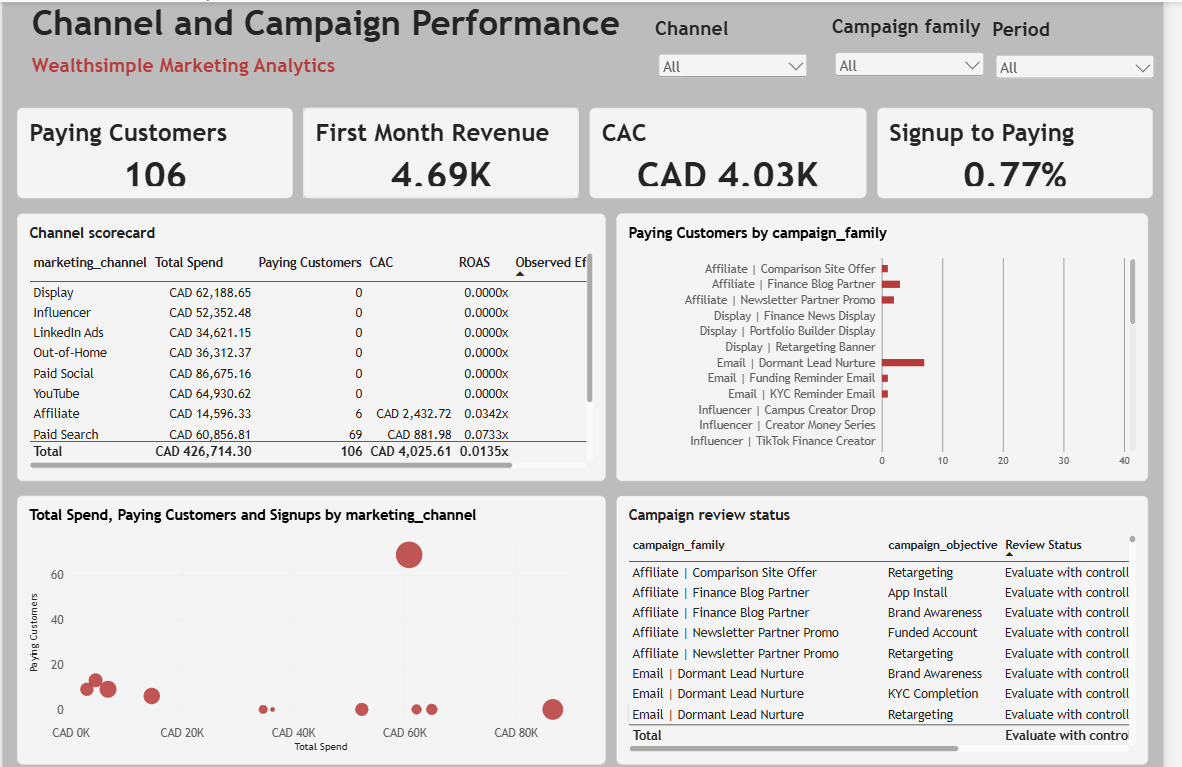

This screenshot's page, from the dashboard's own definition file:
{"tool":"powerbi","page":{"name":"Channel and Campaign","canvas":[1600,1100],"ordinal":3},"visuals":[{"type":"slicer","title":"Channel","fields":{"Values":["Fact_Campaigns.marketing_channel"]},"box":[900,19.5,214.6,104.9],"z":0},{"type":"slicer","title":"Campaign family","fields":{"Values":["Fact_Campaigns.campaign_family"]},"box":[1142.7,18.3,214.6,104.9],"z":1000},{"type":"slicer","title":"Period","fields":{"Values":["Dim_Date.YearMonth"]},"box":[1364.1,21.9,228.1,106.2],"z":2000},{"type":"card","title":"Paying Customers","fields":{"Values":["Fact_Campaigns.Paying Customers"]},"box":[20,145,380,125],"z":3000},{"type":"card","title":"First Month Revenue","fields":{"Values":["Fact_Campaigns.First Month Revenue"]},"box":[415,145,380,125],"z":4000},{"type":"card","title":"CAC","fields":{"Values":["Fact_Campaigns.CAC"]},"box":[809.4,145.3,381.2,125],"z":5000},{"type":"card","title":"Signup to Paying","fields":{"Values":["Fact_Campaigns.Signup to Paying"]},"box":[1205,145,380,125],"z":6000},{"type":"tableEx","title":"Channel scorecard","fields":{"Values":["Fact_Campaigns.marketing_channel","Fact_Campaigns.Total Spend","Fact_Campaigns.Paying Customers","Fact_Campaigns.CAC","Fact_Campaigns.ROAS","Fact_Campaigns.Observed Efficiency Ratio"]},"box":[20.3,290.6,810.9,368.8],"z":7000},{"type":"clusteredBarChart","fields":{"Category":["Fact_Campaigns.campaign_family"],"Y":["Fact_Campaigns.Paying Customers"]},"box":[846.9,290.6,732.8,368.8],"z":8000},{"type":"scatterChart","fields":{"Category":["Fact_Campaigns.marketing_channel"],"Size":["Fact_Campaigns.Signups"],"X":["Fact_Campaigns.Total Spend"],"Y":["Fact_Campaigns.Paying Customers"]},"box":[20.3,679.7,810.9,370.3],"z":9000},{"type":"tableEx","title":"Campaign review status","fields":{"Values":["Fact_Campaigns.campaign_family","Fact_Campaigns.campaign_objective","Fact_Campaigns.Review Status","Fact_Campaigns.Total Spend","Fact_Campaigns.Paying Customers"]},"box":[846.9,679.7,732.8,370.3],"z":10000},{"type":"textbox","box":[41.5,0,839,112.2],"z":11000}]}

Visuals, with their boxes on the page's 1600x1100 design canvas (x1, y1, x2, y2). These are canvas units, not pixel positions in the 1182x767 screenshot, which may show the page scaled, cropped or inside an application window:
"Channel" slicer: left=900, top=20, right=1115, bottom=124
"Campaign family" slicer: left=1143, top=18, right=1357, bottom=123
"Period" slicer: left=1364, top=22, right=1592, bottom=128
"Paying Customers" card: left=20, top=145, right=400, bottom=270
"First Month Revenue" card: left=415, top=145, right=795, bottom=270
"CAC" card: left=809, top=145, right=1191, bottom=270
"Signup to Paying" card: left=1205, top=145, right=1585, bottom=270
"Channel scorecard" tableEx: left=20, top=291, right=831, bottom=659
clusteredBarChart - Fact_Campaigns.campaign_family x Fact_Campaigns.Paying Customers: left=847, top=291, right=1580, bottom=659
scatterChart - Fact_Campaigns.marketing_channel x Fact_Campaigns.Signups: left=20, top=680, right=831, bottom=1050
"Campaign review status" tableEx: left=847, top=680, right=1580, bottom=1050
textbox: left=42, top=0, right=880, bottom=112
